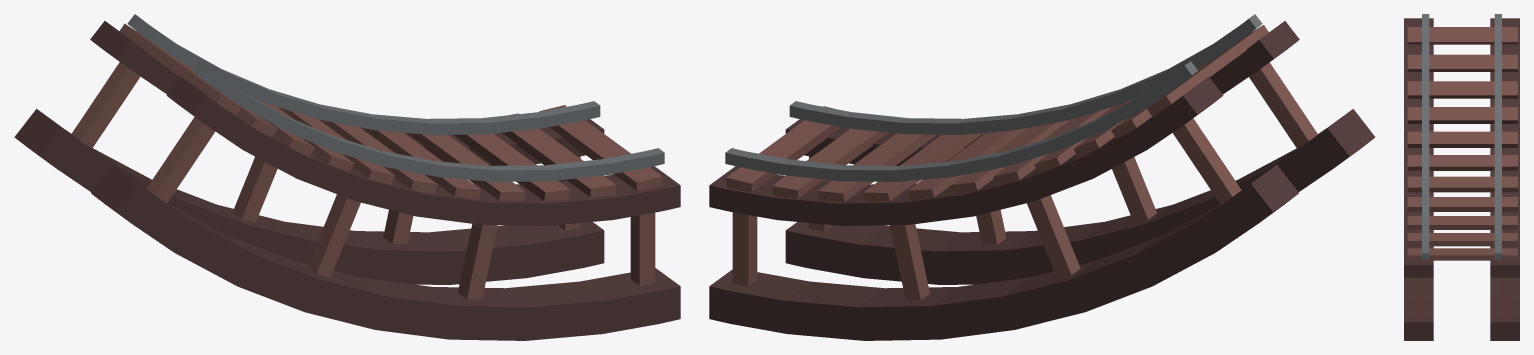
File: DarkRoseWoodMechMedium1_545GaugeRise1.fbx
3 views of the same model, side by side, from view 1: azimuth 30°, elevation 25°; view 2: azimuth 150°, elevation 25°; view 3: azimuth 270°, elevation 25° (orthographic). The views are drawn at different scales.
Parts seen in each view (by area): view 1: DarkRoseWoodMechMedium1_545GaugeRise1; view 2: DarkRoseWoodMechMedium1_545GaugeRise1; view 3: DarkRoseWoodMechMedium1_545GaugeRise1.
Boxes of the visible parts, x1,y1,x2,y2 form: DarkRoseWoodMechMedium1_545GaugeRise1: [14, 14, 680, 340]; DarkRoseWoodMechMedium1_545GaugeRise1: [709, 14, 1375, 340]; DarkRoseWoodMechMedium1_545GaugeRise1: [1404, 14, 1519, 340].
Size of the model in its own units: 842 by 505 by 265.
